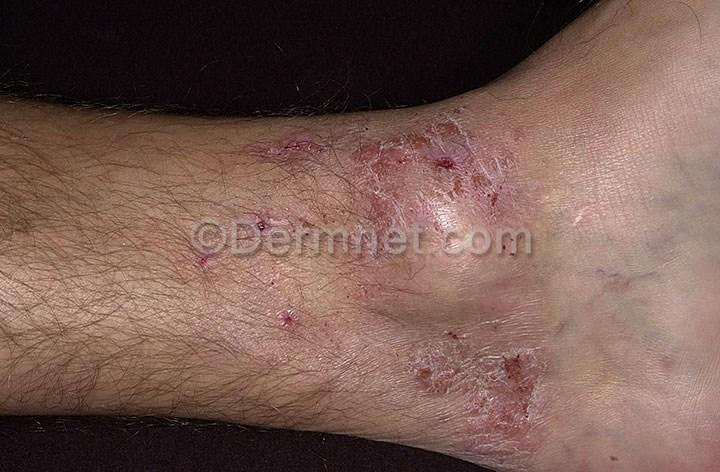Eczema: (390, 311, 597, 468), (352, 105, 535, 222), (233, 127, 352, 194), (259, 295, 318, 343), (174, 248, 229, 277)
